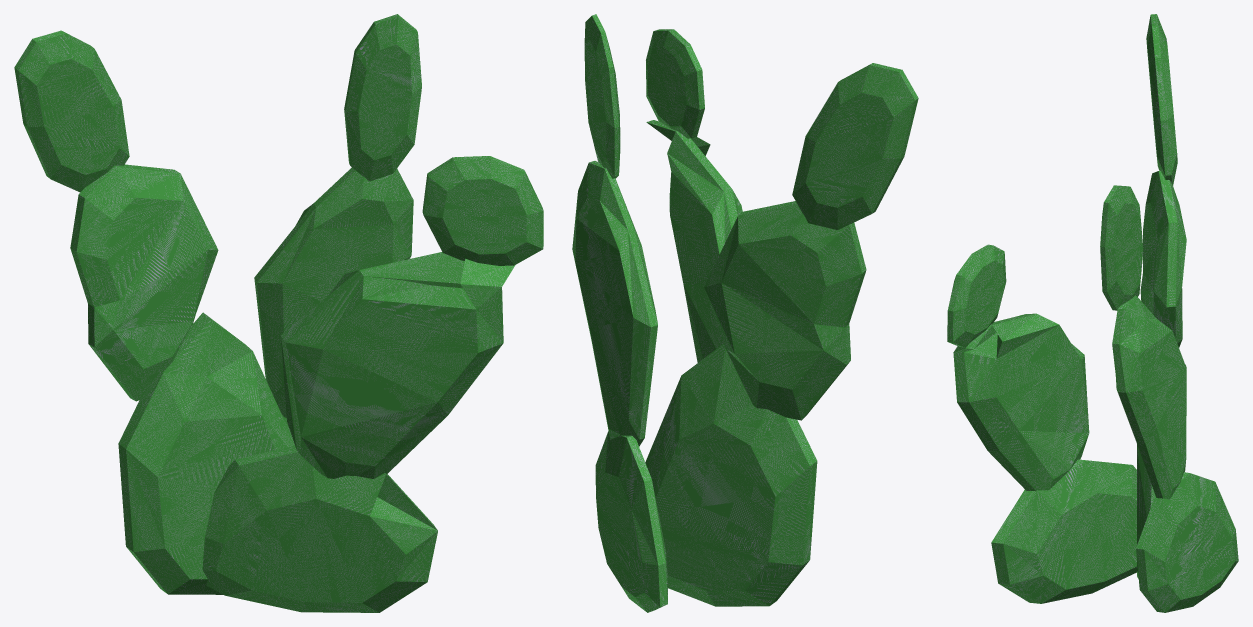
The model's file is Cactus_11.fbx.
3 renders of one model, left to right at view 1: azimuth 30°, elevation 25°; view 2: azimuth 150°, elevation 25°; view 3: azimuth 270°, elevation 25°, orthographic. The views are drawn at different scales.
Visible parts, largest first — view 1: Model; view 2: Model; view 3: Model.
Part boxes in pixels (box(x1,y1,x2,y2)): Model: box(14, 14, 543, 612); Model: box(572, 14, 918, 612); Model: box(947, 14, 1238, 612).
Bounding box in the file's own units: 151 × 215 × 115.
